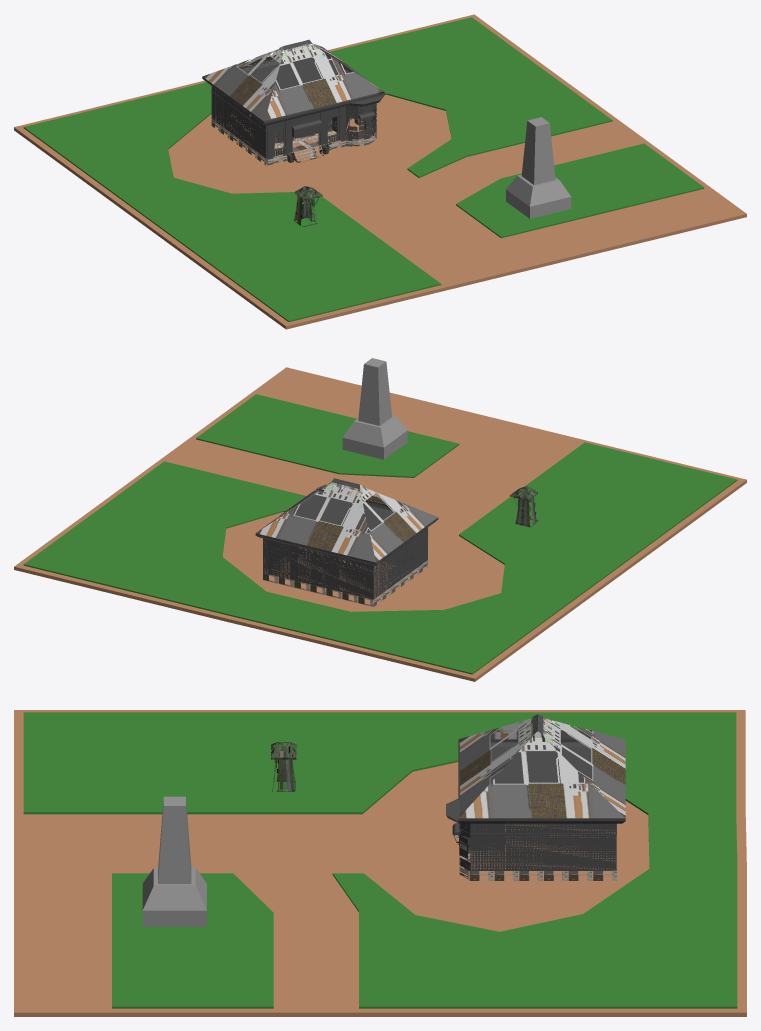
File: Rumah Soekarno.fbx
The picture shows the model from 3 angles, top to bottom: view 1: azimuth 30°, elevation 25°; view 2: azimuth 150°, elevation 25°; view 3: azimuth 270°, elevation 25°; orthographic projection. The views are drawn at different scales.
Parts seen in each view (by area): view 1: Plane.004, Plane.009, Plane.006, Plane.057; view 2: Plane.004, Plane.009, Plane.006, Plane.057; view 3: Plane.004, Plane.009, Plane.006, Plane.057.
Part boxes in pixels (x1,y1,x2,y2): Plane.004: (14, 14, 746, 329); Plane.009: (202, 39, 384, 165); Plane.006: (506, 117, 571, 218); Plane.057: (294, 186, 322, 227); Plane.004: (14, 367, 746, 681); Plane.009: (255, 478, 438, 606); Plane.006: (342, 358, 407, 459); Plane.057: (510, 486, 538, 527); Plane.004: (14, 710, 746, 1016); Plane.009: (446, 714, 625, 880); Plane.006: (142, 796, 206, 926); Plane.057: (271, 742, 296, 791).
Size of the model in its own units: 6617 by 1290 by 6778.
